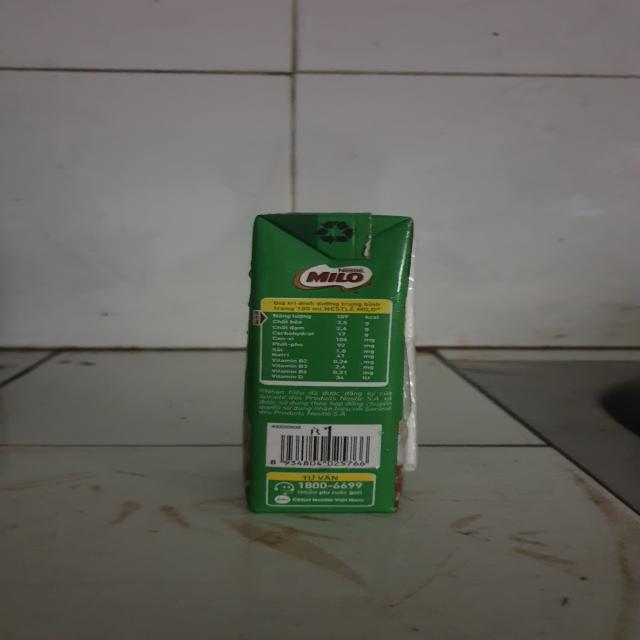Milo: (234, 209, 427, 519)
